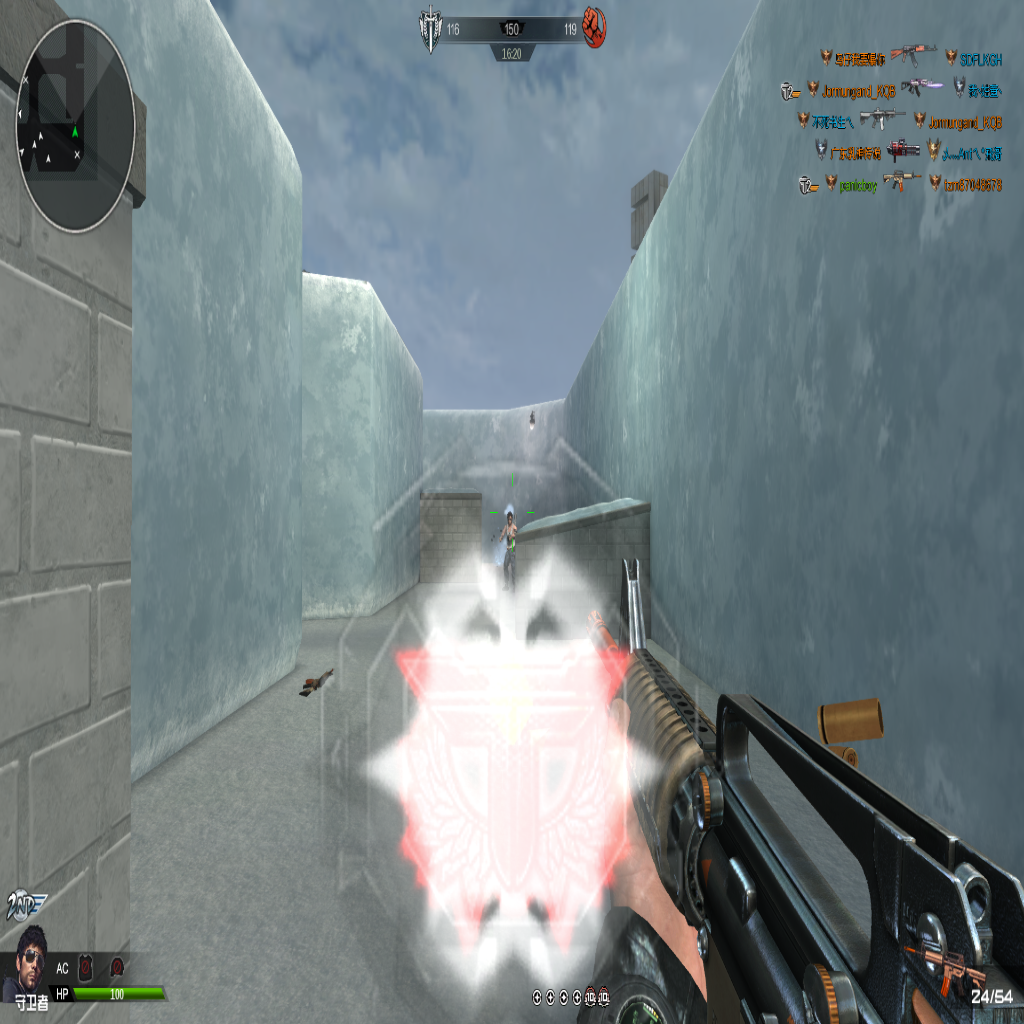tt: (500, 508, 517, 589)
